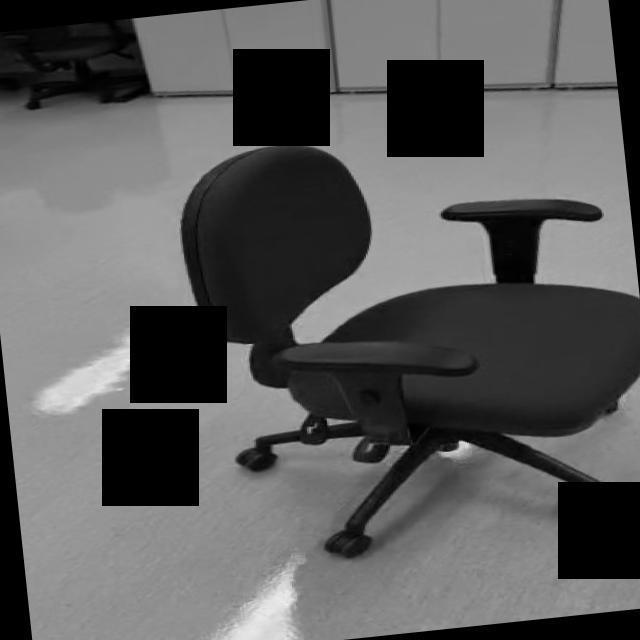chair: (175, 108, 640, 572)
